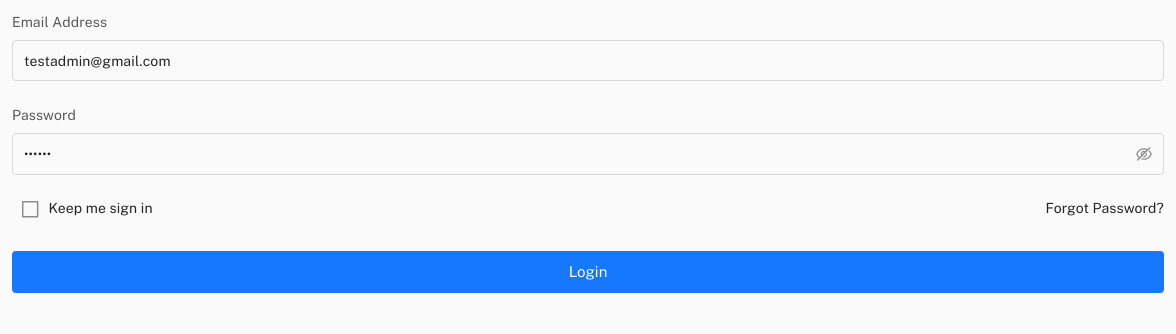
AuthLogin Component › form validations › shows invalid when email error for incorrect email format
Replace the text in the field with placeholder "Enter email address" with "invalid-email" at (588, 61), box 12,40 -> 1164,81
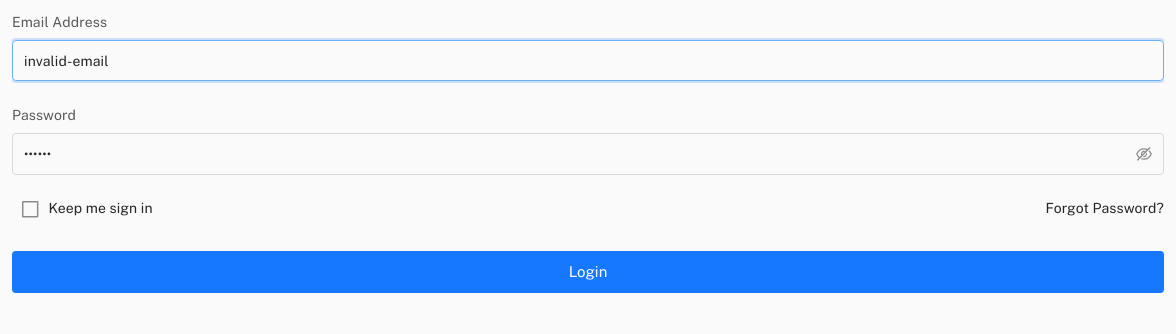
Press Enter
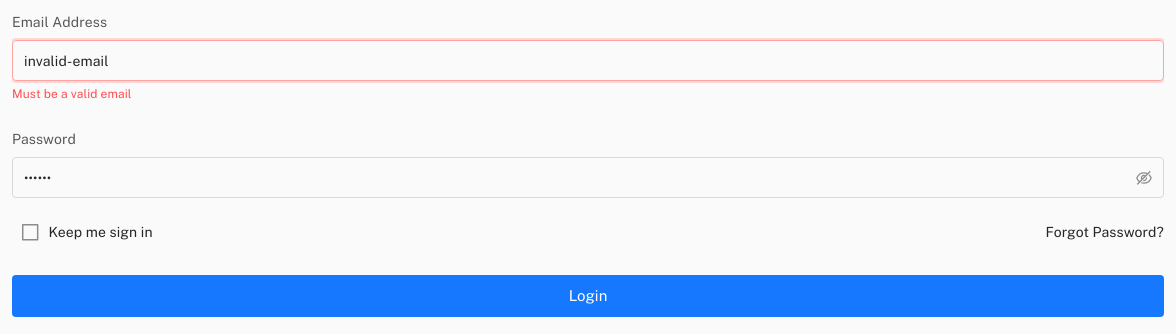
Result: the text "Must be a valid email" is shown at 12,87 -> 132,101
